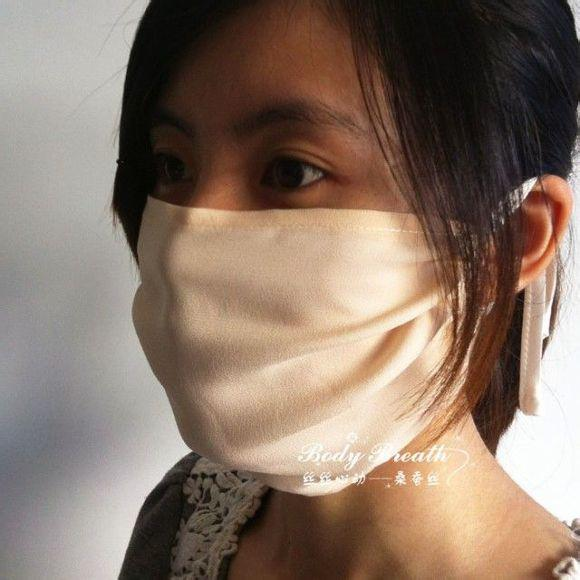OK: (137, 113, 499, 475)
